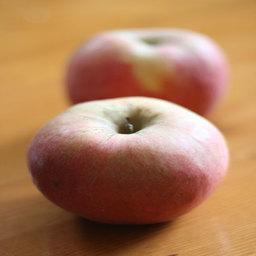apple: (27, 98, 230, 223), (62, 27, 229, 122)
